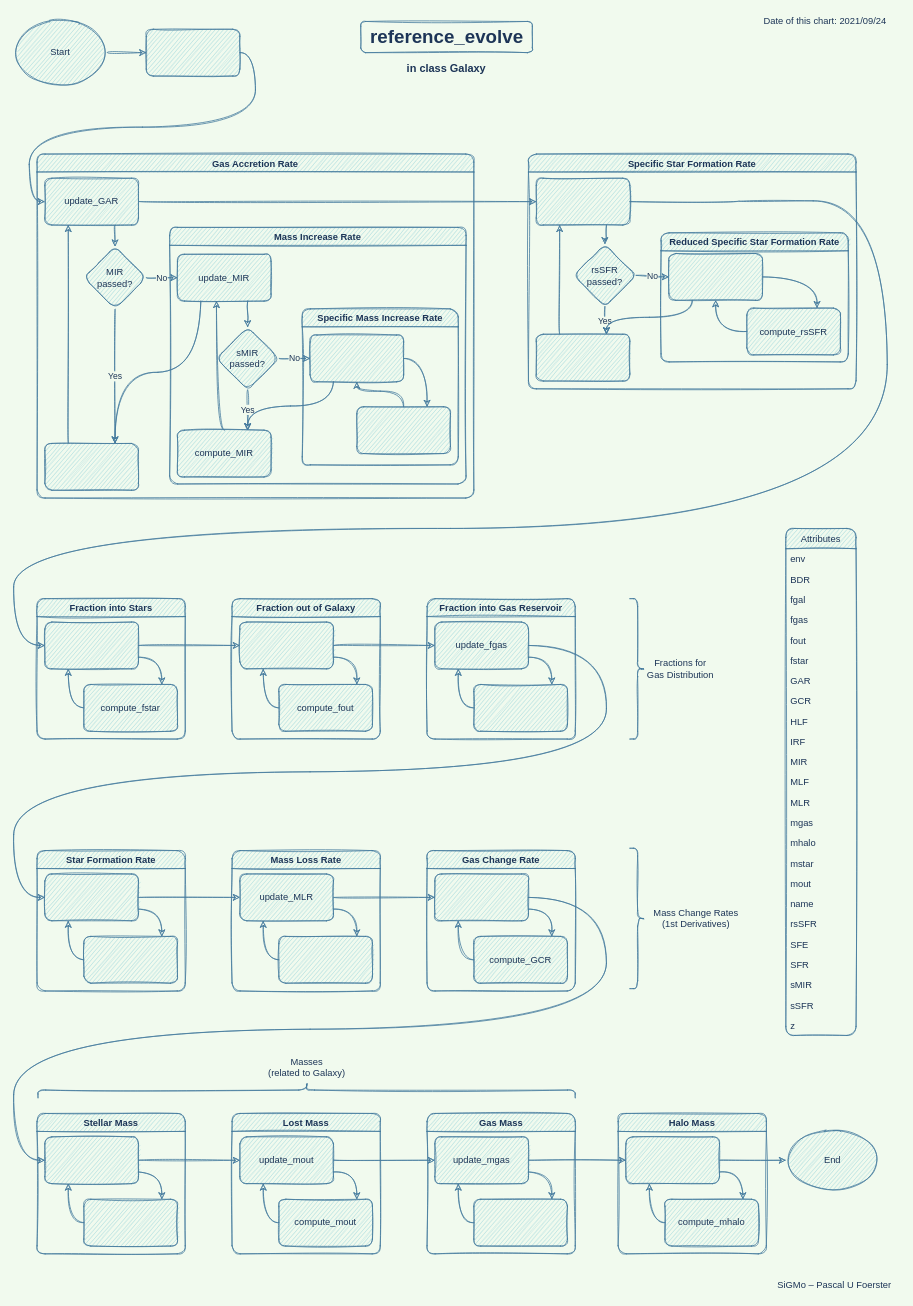
The diagram is 913 pixels wide and 1306 high, and some of its shapes have lost their labels. Here are the shapes that lost their labels. From the top down, the centre of each, then its label:
At (x=192, y=52): "z = env.z".
At (x=582, y=201): "update_sSFR".
At (x=715, y=276): "update_rsSFR".
At (x=356, y=358): "update_sMIR".
At (x=582, y=357): "compute_sSFR".
At (x=403, y=430): "compute_sMIR".
At (x=91, y=466): "compute_GAR".
At (x=91, y=645): "update_fstar".
At (x=286, y=645): "update_fout".
At (x=520, y=707): "compute_fgas".
At (x=91, y=897): "update_SFR".
At (x=481, y=897): "update_GCR".
At (x=130, y=959): "compute_SFR".
At (x=325, y=959): "compute_MLR".
At (x=91, y=1160): "update_mstar".
At (x=672, y=1160): "update_mhalo".
At (x=130, y=1222): "compute_mstar".
At (x=520, y=1222): "compute_mgas".
